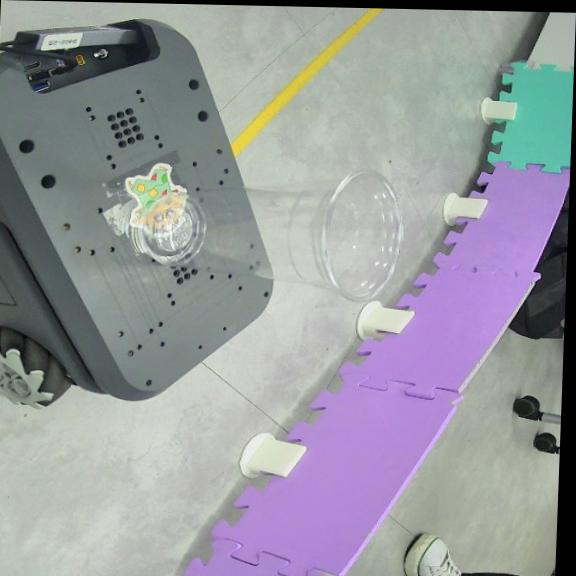Plastik: (127, 171, 401, 302)
